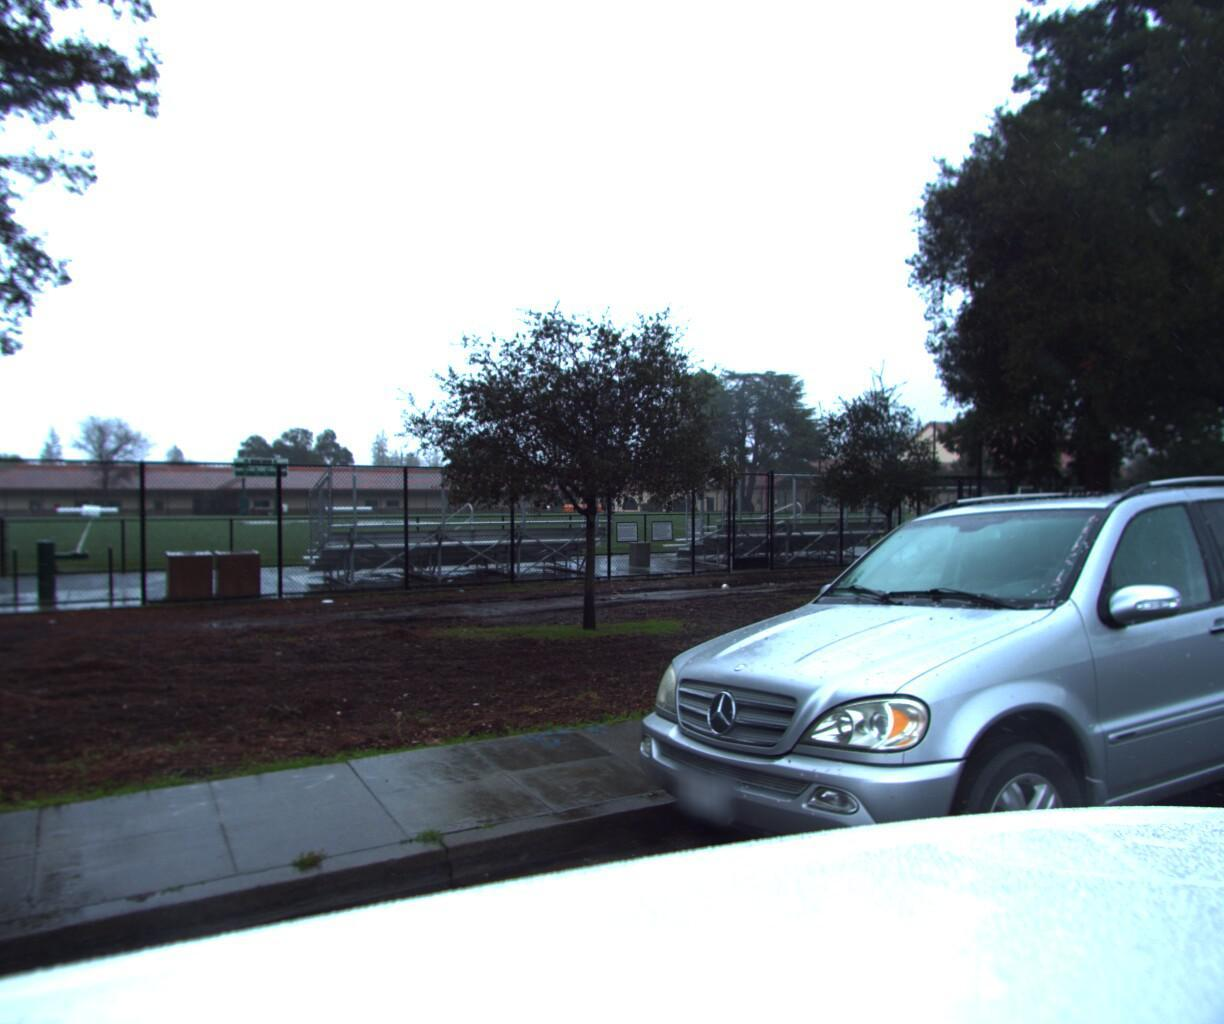car: (591, 448, 1224, 1016), (1212, 507, 1224, 729)
